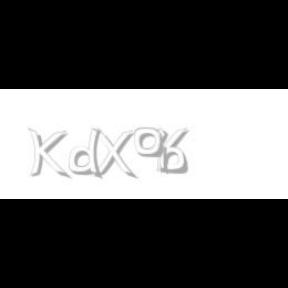6: (160, 128, 188, 176)
K: (28, 128, 68, 180)
X: (91, 128, 135, 180)
d: (70, 128, 106, 180)
i: (156, 128, 172, 176)
o: (134, 128, 162, 158)
